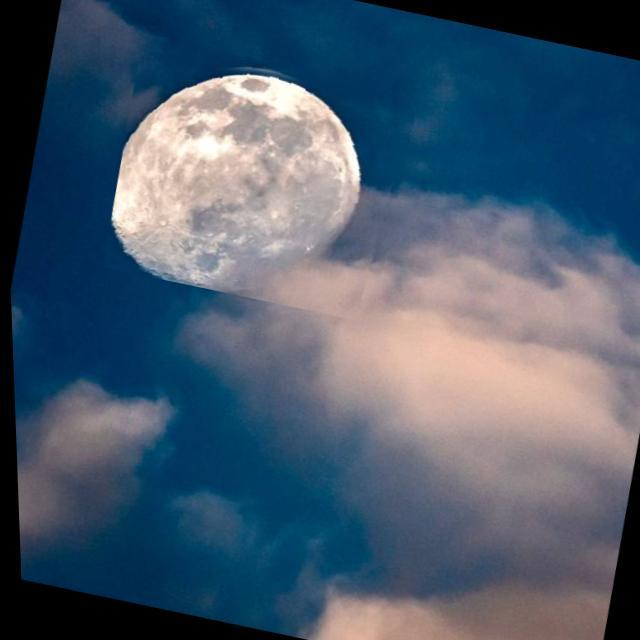moon: (93, 36, 422, 324)
